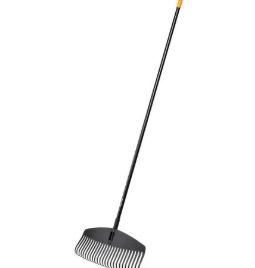RATEAU: (59, 0, 255, 268)
